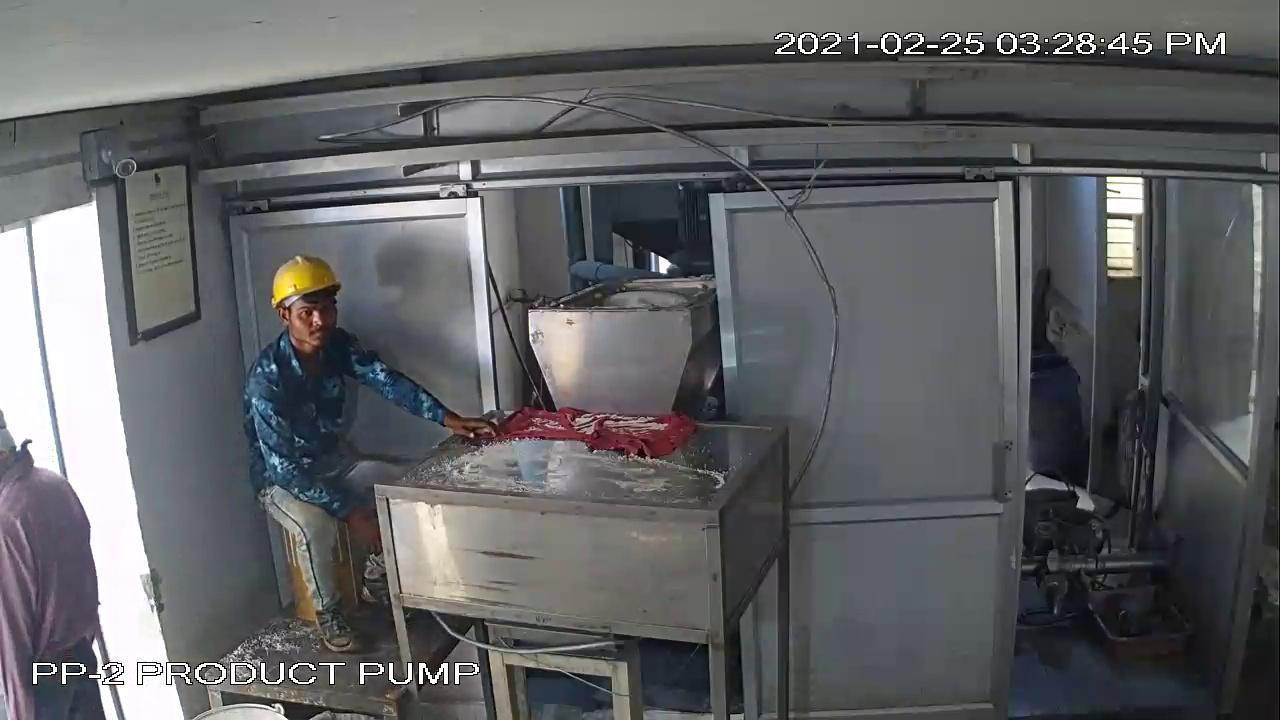helmet: (264, 246, 340, 311)
